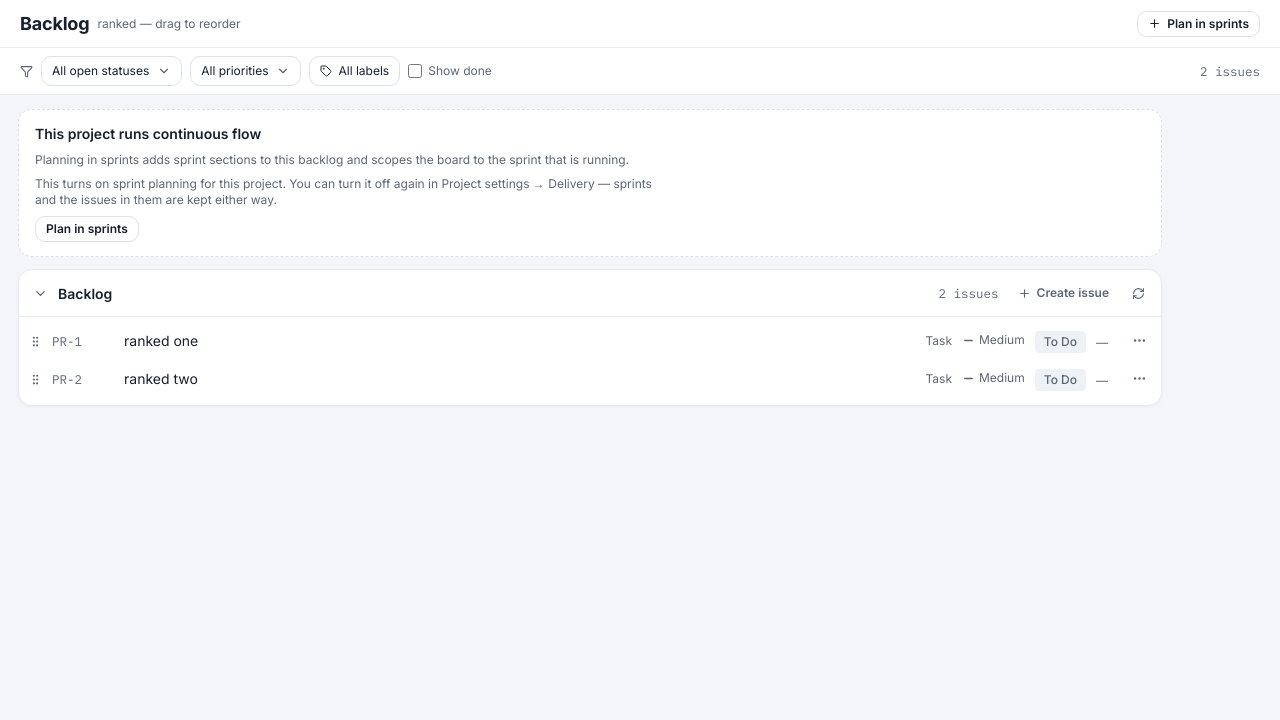
Scenario: Backlog — a Kanban project’s route to its first sprint (HD-104 Rule C) › turns sprint planning on and creates the sprint in ONE gesture, never touching settings
Check: the text "ranked one" is shown, box 124,332 -> 198,349
Click the button "Plan in sprints" in the row of "ranked — drag to reorder": [1199, 24] box 1137,10 -> 1260,36
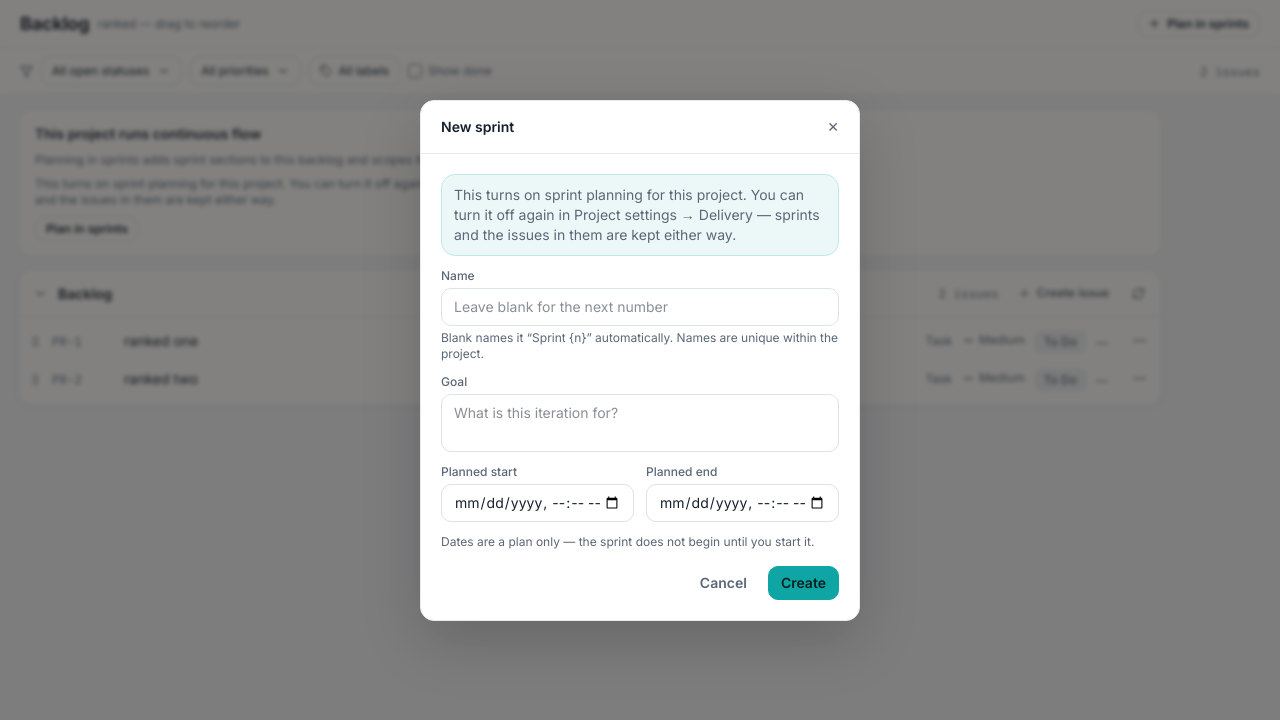
Check: the text "This turns on sprint planning for this project" is shown 2 times, box 35,176 -> 655,208; 441,174 -> 839,256
Click the button "Create": [803, 582] box 768,566 -> 839,600
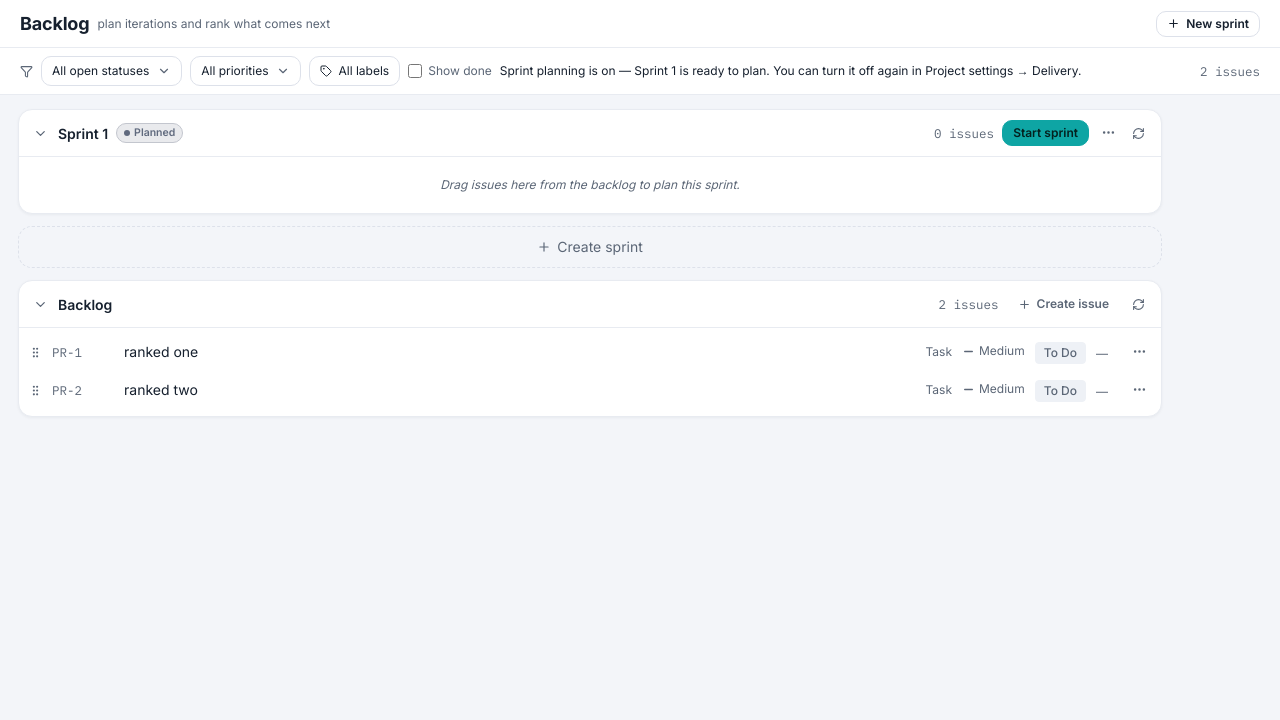
Check: the text "Sprint planning is on" is shown, box 500,63 -> 1081,78
